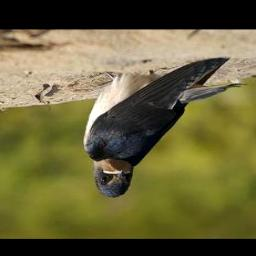Swallow: (83, 59, 248, 199)
